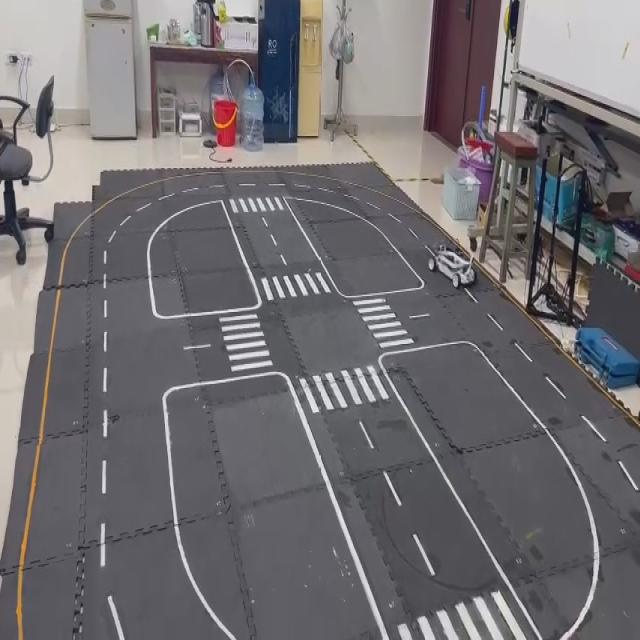SiCo-CAR: (425, 242, 477, 290)
